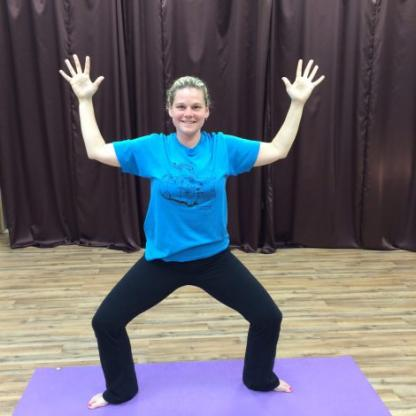godness: (48, 48, 327, 406)
